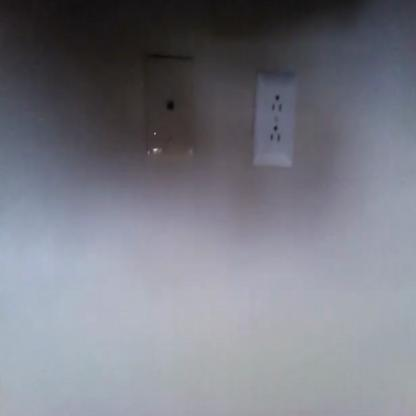OUTLET: (254, 76, 296, 166)
